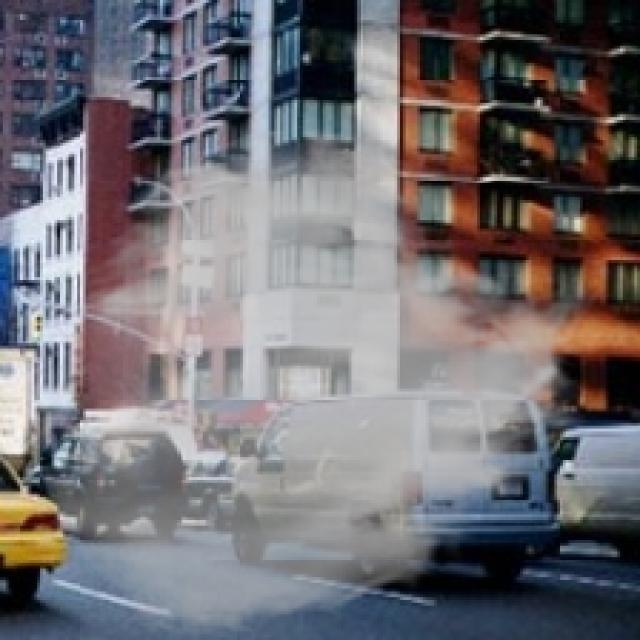Smoke: (40, 122, 603, 638)
